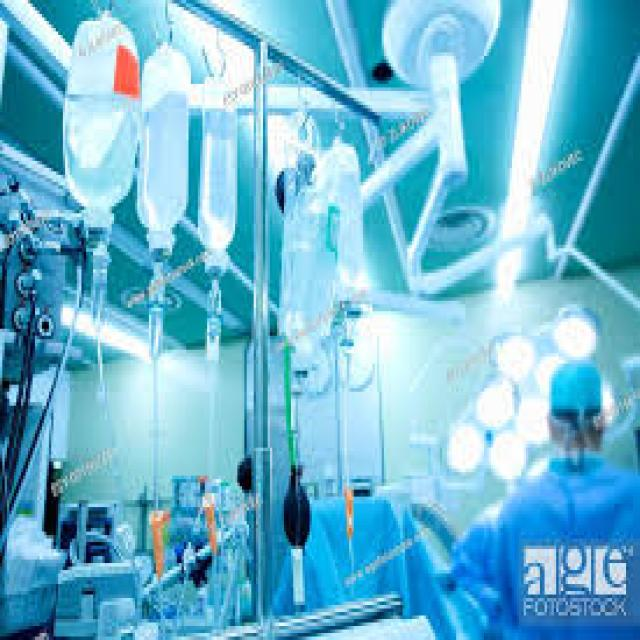B3: (62, 19, 137, 251), (276, 161, 342, 401), (138, 27, 199, 270), (328, 130, 387, 321), (200, 76, 242, 289)
